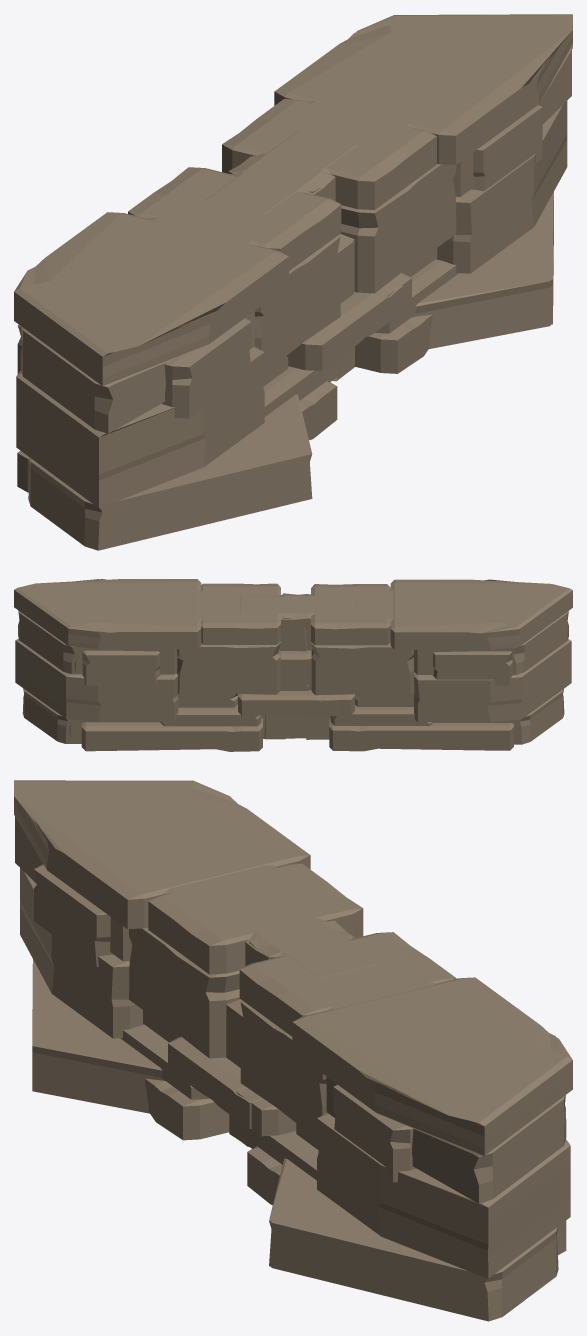
The model's file is overworld_wall.glb.
3 renders of one model, top to bottom at view 1: azimuth 30°, elevation 25°; view 2: azimuth 150°, elevation 25°; view 3: azimuth 270°, elevation 25°, orthographic. The views are drawn at different scales.
Visible parts, largest first — view 1: Wall_Modular.002; view 2: Wall_Modular.002; view 3: Wall_Modular.002.
Boxes of the visible parts, x1=… form: Wall_Modular.002: x1=14, y1=14, x2=572, y2=550; Wall_Modular.002: x1=14, y1=579, x2=572, y2=751; Wall_Modular.002: x1=14, y1=780, x2=572, y2=1321.
Size of the model in its own units: 1.29 by 0.361 by 0.8814.
